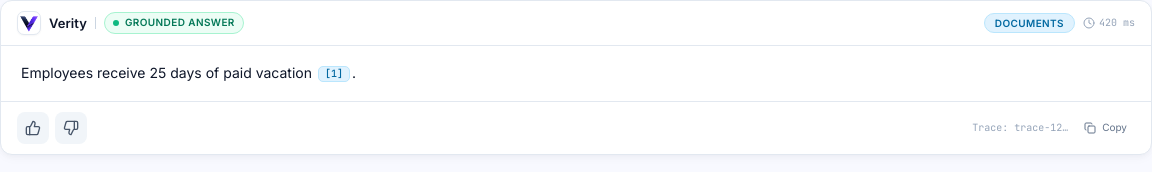
Test case: MessageItem citations › shows a saved acknowledgement after feedback succeeds
This screenshot has width=1152, height=172.
What coordinates should you click on to do the following:
click the button named "Helpful answer"
I would click on:
 (33, 128)
Its box is x1=17 y1=112 x2=49 y2=144.
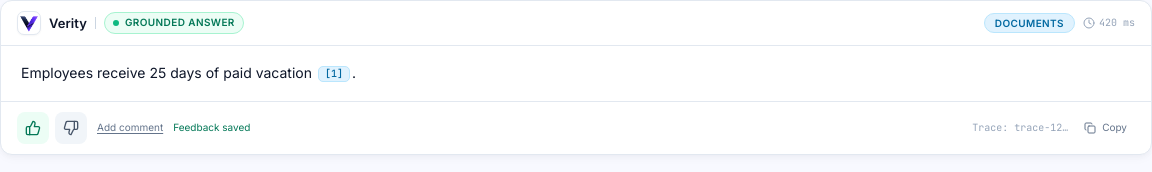
Result: the message reads "Feedback saved" at x1=173 y1=121 x2=250 y2=133
